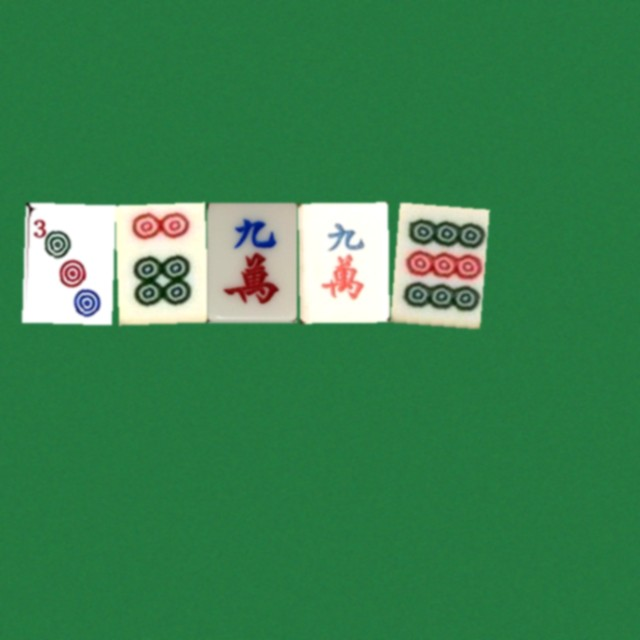tile: (22, 202, 112, 322), (114, 202, 204, 322), (206, 202, 296, 322), (298, 202, 388, 322), (390, 202, 480, 322)
